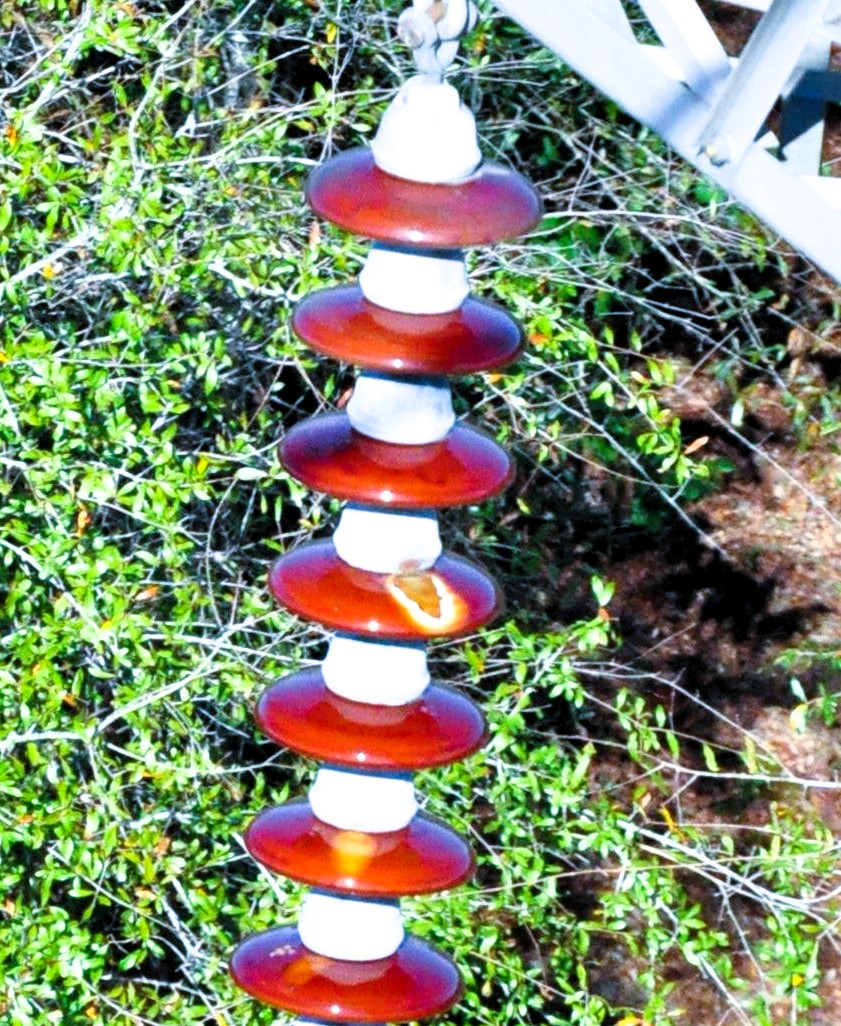Insulator flashover: (260, 530, 513, 645)
